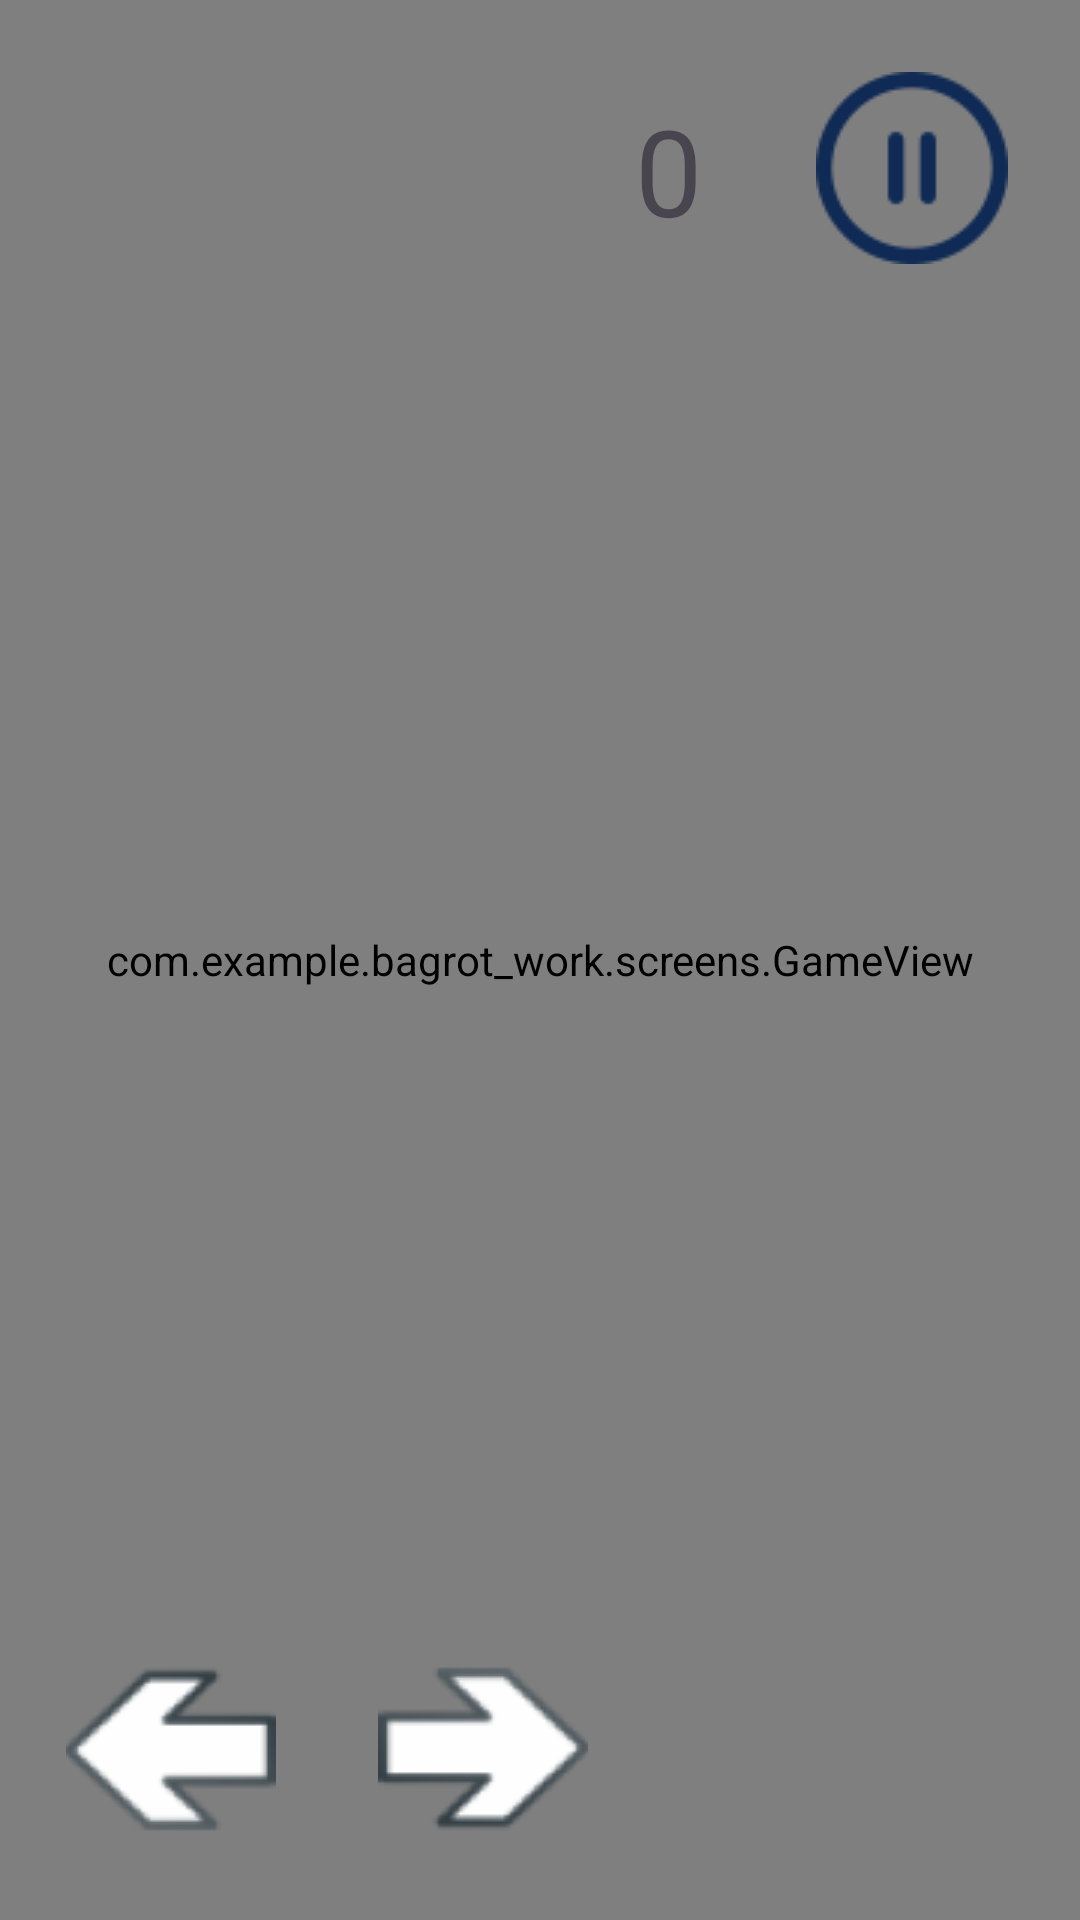

Named icons in this screenshot (1080x1920) and their bounding boxes, (x1, y1, x2, y2):
pause: (816, 72, 1008, 264)
